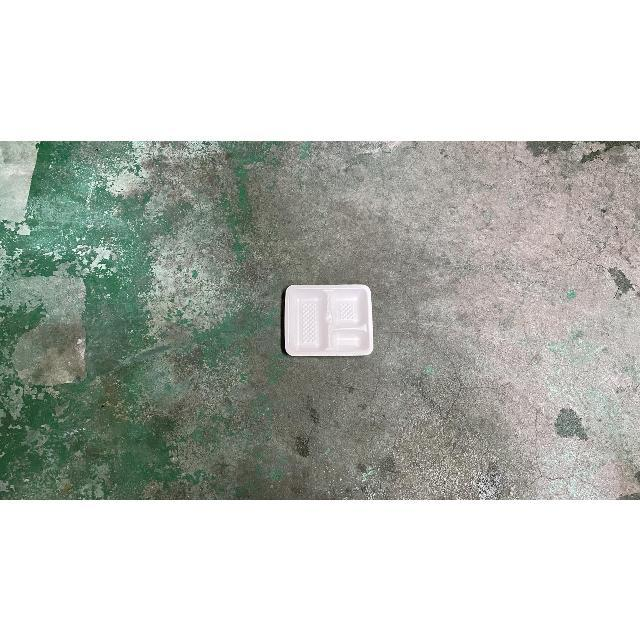Plastico descartable: (282, 285, 374, 359)
